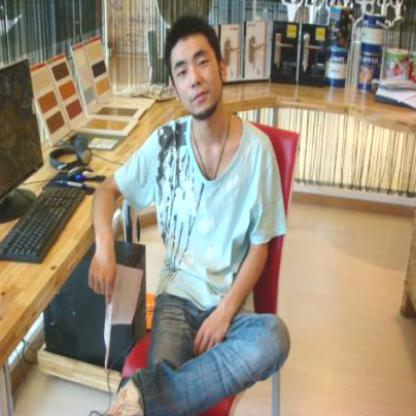person: (136, 20, 286, 416)
